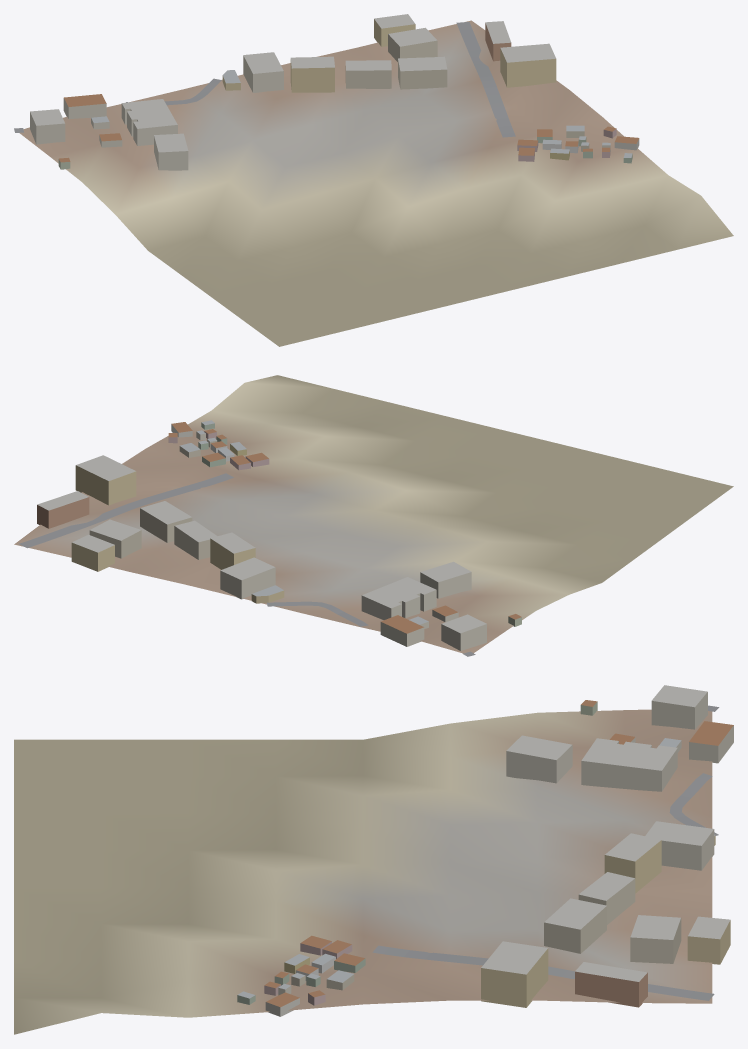
3 views of the same model, one above another, from view 1: azimuth 30°, elevation 25°; view 2: azimuth 150°, elevation 25°; view 3: azimuth 270°, elevation 25° (orthographic). The views are drawn at different scales.
Parts seen in each view (by area): view 1: Lo; view 2: Lo; view 3: Lo.
Boxes of the visible parts, left/top/right/bottom form: Lo: left=14, top=14, right=733, bottom=346; Lo: left=14, top=375, right=733, bottom=656; Lo: left=14, top=685, right=733, bottom=1034.
Bounding box in the file's own units: 263 × 26.52 × 264.
